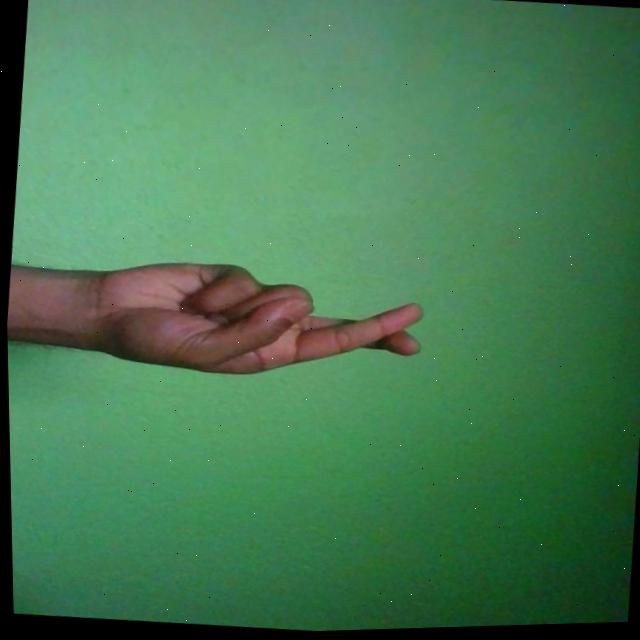Good Luck: (73, 247, 428, 395)
